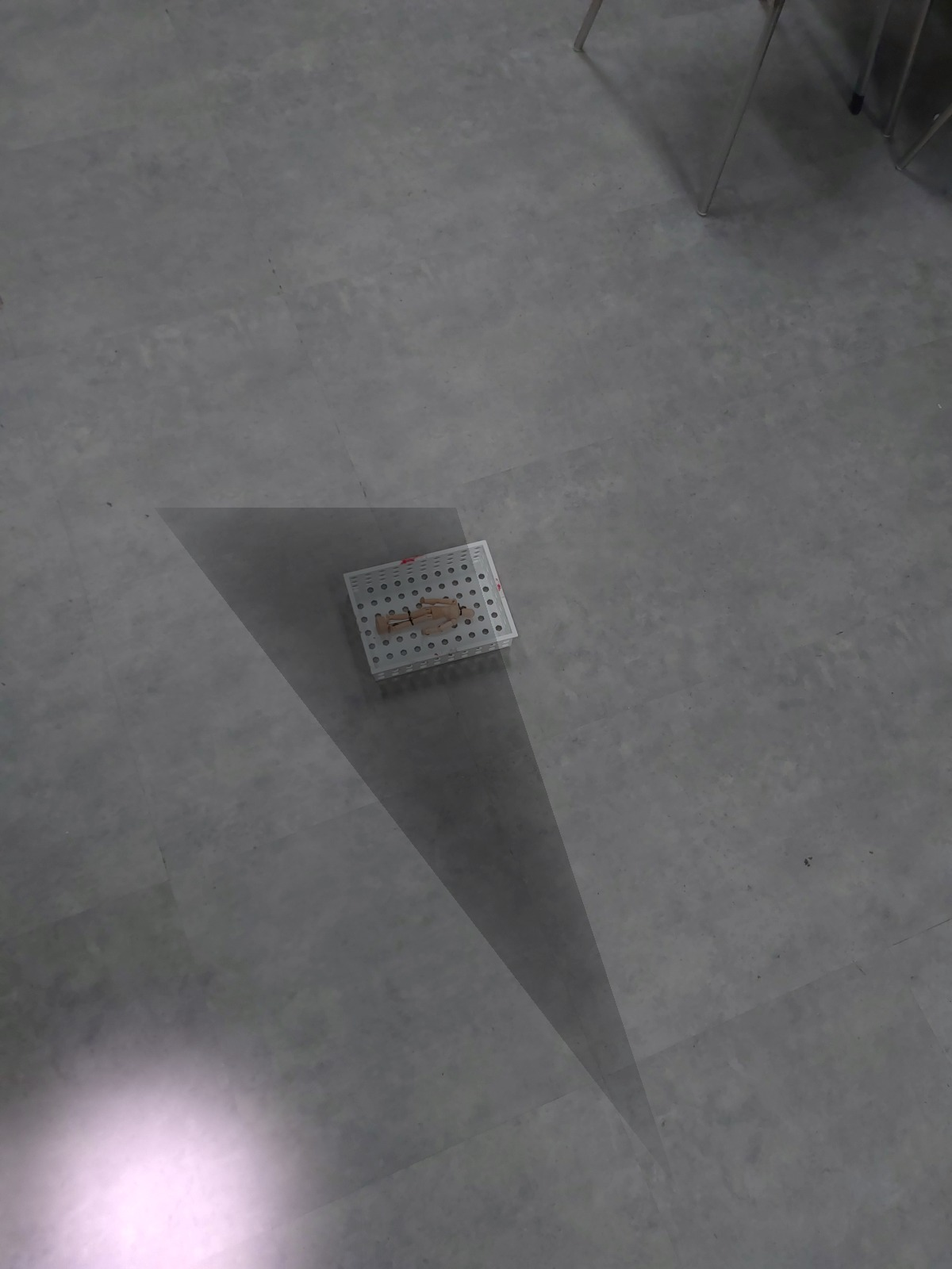basket: (339, 535, 521, 686)
mannequin: (372, 594, 479, 638)
